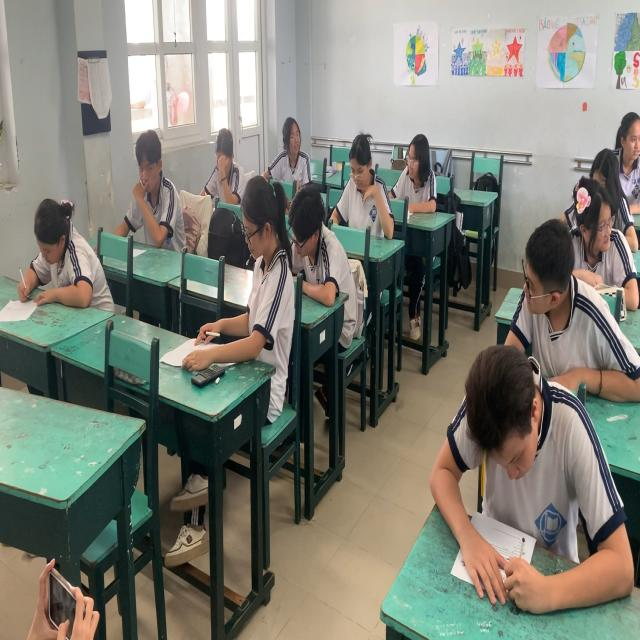cheating: (500, 181, 600, 381), (213, 155, 289, 400), (101, 86, 169, 235), (263, 79, 314, 183)
not_cheating: (414, 300, 598, 596), (0, 135, 96, 307), (532, 120, 622, 276), (284, 165, 346, 343), (580, 69, 640, 192), (348, 141, 398, 269), (389, 125, 437, 222), (206, 106, 252, 206)
